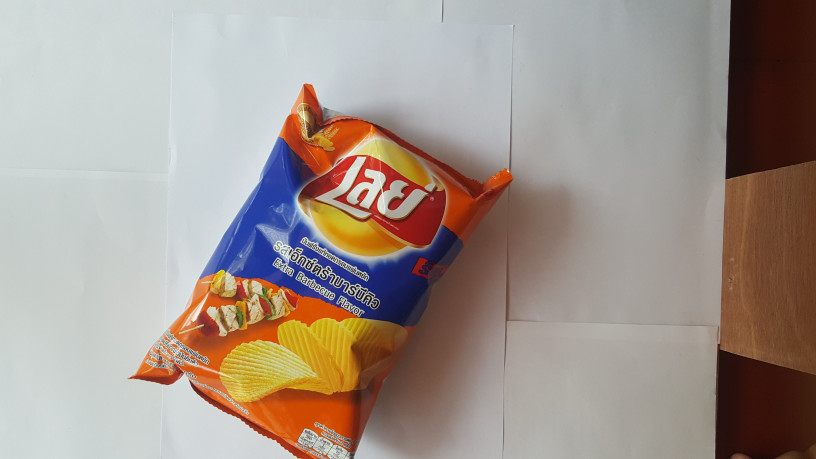lays-bbq: (132, 82, 515, 459)
